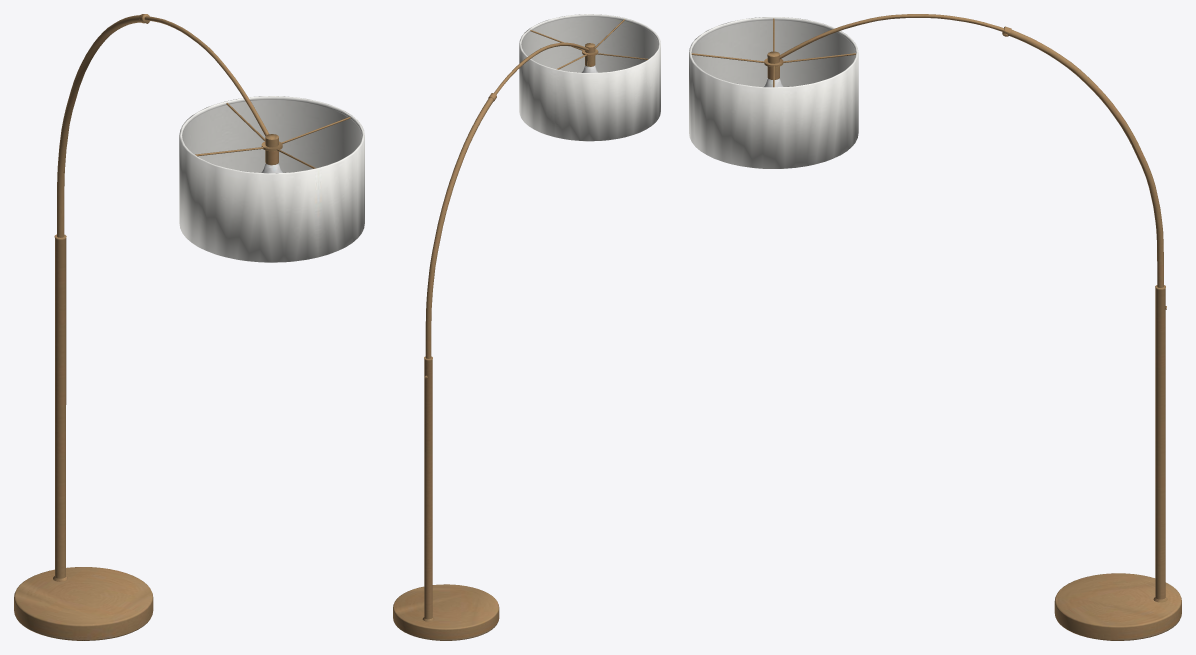
3 views of the same model, side by side, from view 1: azimuth 30°, elevation 25°; view 2: azimuth 150°, elevation 25°; view 3: azimuth 270°, elevation 25° (orthographic). The views are drawn at different scales.
Visible parts, largest first — view 1: visual_RootNode; view 2: visual_RootNode; view 3: visual_RootNode.
Part boxes in pixels (x1,y1,x2,y2): visual_RootNode: (14, 14, 364, 640); visual_RootNode: (393, 14, 660, 640); visual_RootNode: (689, 14, 1181, 640).
Size of the model in its own units: 0.493 by 1.43 by 1.93.
Materials: 1 (1 with a texture image).
